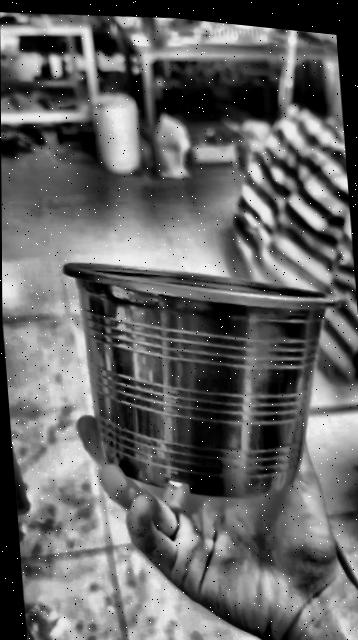pot: (64, 264, 336, 496)
